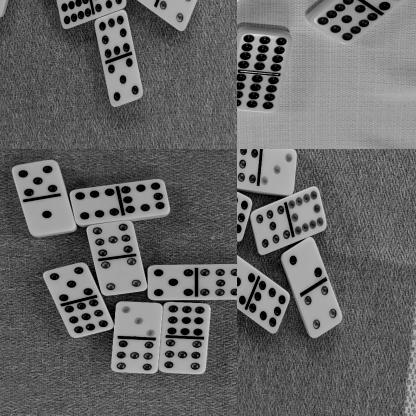pip-1: (23, 195, 74, 237)
pip-10: (287, 185, 326, 237)
pip-11: (313, 0, 377, 45)
pip-12: (237, 32, 289, 72), (237, 73, 280, 112), (54, 0, 90, 30)
pip-2: (282, 239, 322, 293)
pip-3: (112, 302, 162, 338), (259, 149, 297, 196)
pip-4: (303, 287, 342, 341), (99, 257, 145, 297), (158, 0, 197, 32)
pip-5: (41, 263, 93, 302), (106, 58, 143, 108), (11, 160, 59, 198), (147, 264, 195, 300), (237, 253, 254, 306)
pip-6: (70, 183, 118, 226)
pip-7: (249, 204, 290, 258), (86, 222, 140, 258), (158, 337, 206, 375), (108, 340, 158, 375), (195, 263, 237, 301), (237, 149, 259, 189)
pip-8: (249, 282, 289, 336), (94, 10, 131, 60), (119, 180, 169, 216), (237, 190, 251, 242)
pip-9: (61, 298, 112, 340), (162, 302, 210, 338), (88, 0, 125, 17)
